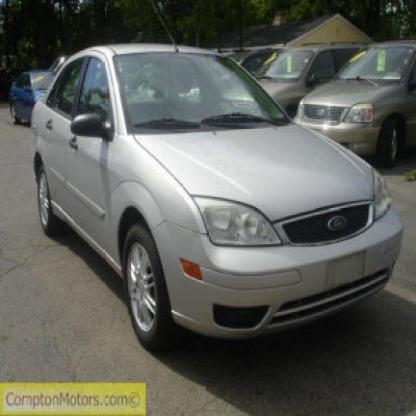Vehicle: (32, 6, 404, 358)
